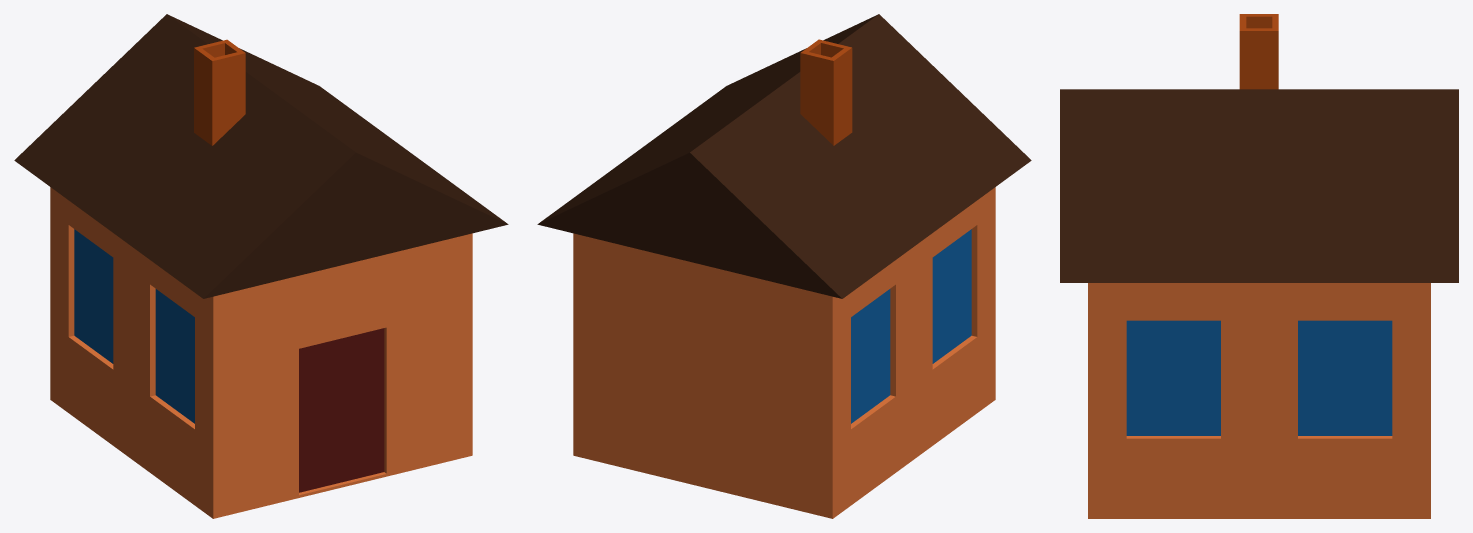
Rendered from House 1.FBX.
The picture shows the model from 3 angles, left to right: view 1: azimuth 30°, elevation 25°; view 2: azimuth 150°, elevation 25°; view 3: azimuth 270°, elevation 25°; orthographic projection. The views are drawn at different scales.
Visible parts, largest first — view 1: House 1; view 2: House 1; view 3: House 1.
Boxes of the visible parts, <box> form: House 1: <box>14,14,508,518</box>; House 1: <box>537,14,1031,518</box>; House 1: <box>1060,14,1458,518</box>.
Bounding box in the file's own units: 19.98 × 24.24 × 21.46.
